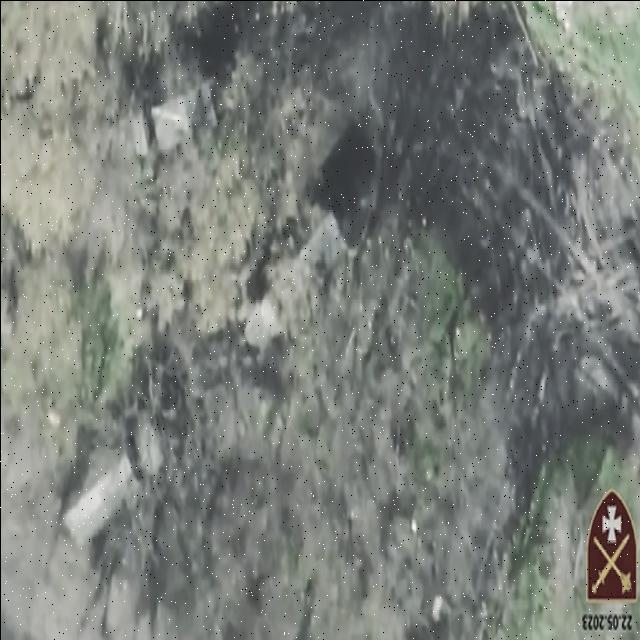TRUCK: (232, 171, 356, 362), (58, 404, 164, 556), (118, 56, 222, 164)
